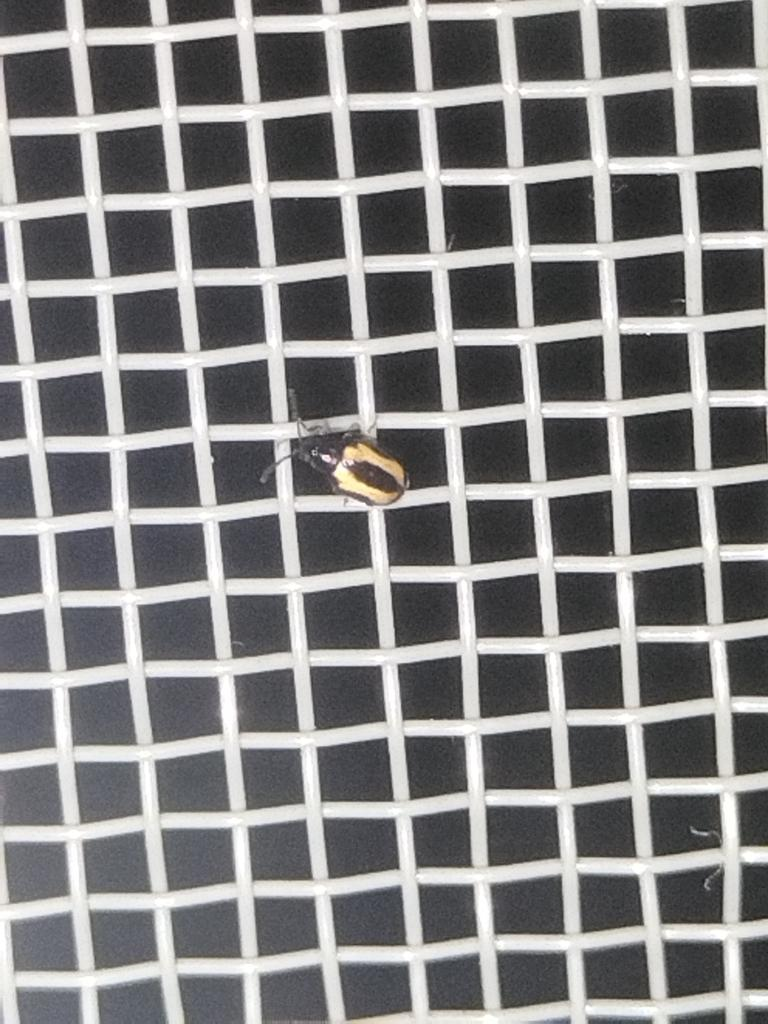flea_beetle: (240, 358, 460, 557)
